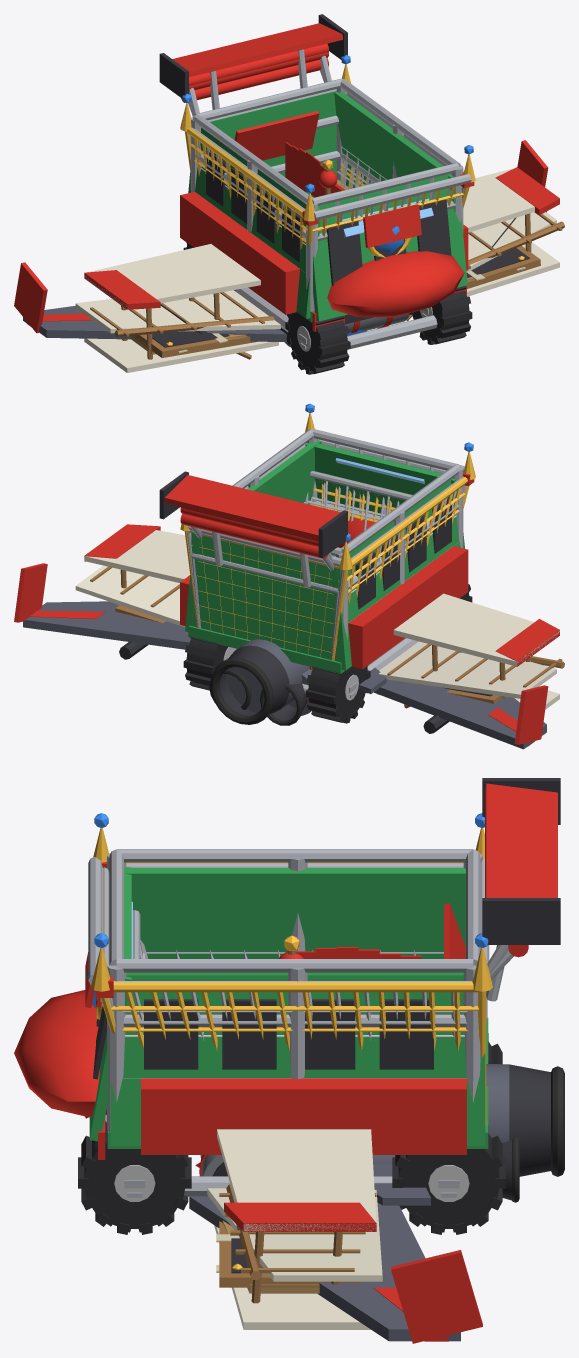
Rendered from CartKit.fbx.
The picture shows the model from 3 angles, top to bottom: view 1: azimuth 30°, elevation 25°; view 2: azimuth 150°, elevation 25°; view 3: azimuth 270°, elevation 25°; orthographic projection. The views are drawn at different scales.
Parts seen in each view (by area): view 1: Cart_Racing__Accent, Cart_Market__Panel, Wings4__Fabric, Cart_Industrial__Frame, Wings3__Fabric, Cart_Market__Dark, Cart_Golden__Gold, Wheels3__Rubber, Wings4__Accent, Wings3__Wood, Cart_Basic__Accent, Wings5__Accent (+17 smaller); view 2: Cart_Market__Panel, Cart_Racing__Accent, Wings4__Fabric, Wings5__Body, Wings3__Fabric, Cart_Golden__Gold, Cart_Industrial__Frame, Wheels3__Rubber, Wings5__Accent, Cart_Racing__Frame, Wings4__Accent, Cart_Market__Dark (+17 smaller); view 3: Cart_Market__Panel, Cart_Racing__Accent, Cart_Industrial__Frame, Wings4__Fabric, Cart_Golden__Gold, Wheels3__Rubber, Cart_Market__Dark, Wings5__Accent, Wings5__Body, Wings3__Fabric, Cart_Racing__Dark, Wings4__Accent (+15 smaller).
Boxes of the visible parts, box(x1,y1,x2,y2) form: Cart_Racing__Accent: box(172, 23, 468, 317); Cart_Market__Panel: box(188, 91, 467, 321); Wings4__Fabric: box(84, 168, 559, 372); Cart_Industrial__Frame: box(189, 55, 463, 349); Wings3__Fabric: box(75, 212, 556, 333); Cart_Market__Dark: box(206, 149, 451, 285); Cart_Golden__Gold: box(180, 64, 475, 257); Wheels3__Rubber: box(183, 242, 472, 374); Wings4__Accent: box(84, 167, 559, 309); Wings3__Wood: box(90, 212, 564, 359); Cart_Basic__Accent: box(234, 111, 474, 225); Wings5__Accent: box(14, 140, 548, 333); Cart_Market__Panel: box(185, 440, 464, 670); Cart_Racing__Accent: box(164, 475, 468, 669); Wings4__Fabric: box(84, 530, 559, 709); Wings5__Body: box(23, 601, 546, 749); Wings3__Fabric: box(75, 565, 556, 698); Cart_Golden__Gold: box(180, 413, 475, 660); Cart_Industrial__Frame: box(200, 429, 463, 698); Wheels3__Rubber: box(183, 584, 472, 723); Wings5__Accent: box(14, 563, 548, 746); Cart_Racing__Frame: box(190, 471, 412, 660); Wings4__Accent: box(84, 524, 559, 666); Cart_Market__Dark: box(355, 497, 451, 609); Cart_Market__Panel: box(89, 867, 485, 1145); Cart_Racing__Accent: box(14, 783, 557, 1154); Cart_Industrial__Frame: box(105, 849, 506, 1196); Wings4__Fabric: box(214, 1129, 376, 1329); Cart_Golden__Gold: box(91, 828, 492, 1126); Wheels3__Rubber: box(78, 1033, 505, 1234); Cart_Market__Dark: box(93, 999, 433, 1079); Wings5__Accent: box(373, 1250, 482, 1343); Wings5__Body: box(189, 1196, 460, 1341); Wings3__Fabric: box(207, 1188, 382, 1281); Cart_Racing__Dark: box(482, 778, 560, 944); Wings4__Accent: box(224, 1202, 376, 1231).
Bounding box in the file's own units: 14.92 × 6.85 × 9.12.
